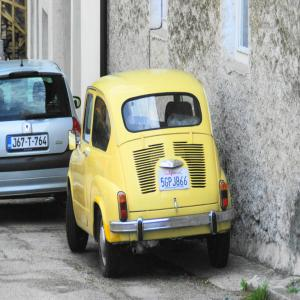Vehicle-registration-plate: (7, 134, 50, 154), (159, 169, 191, 191)
